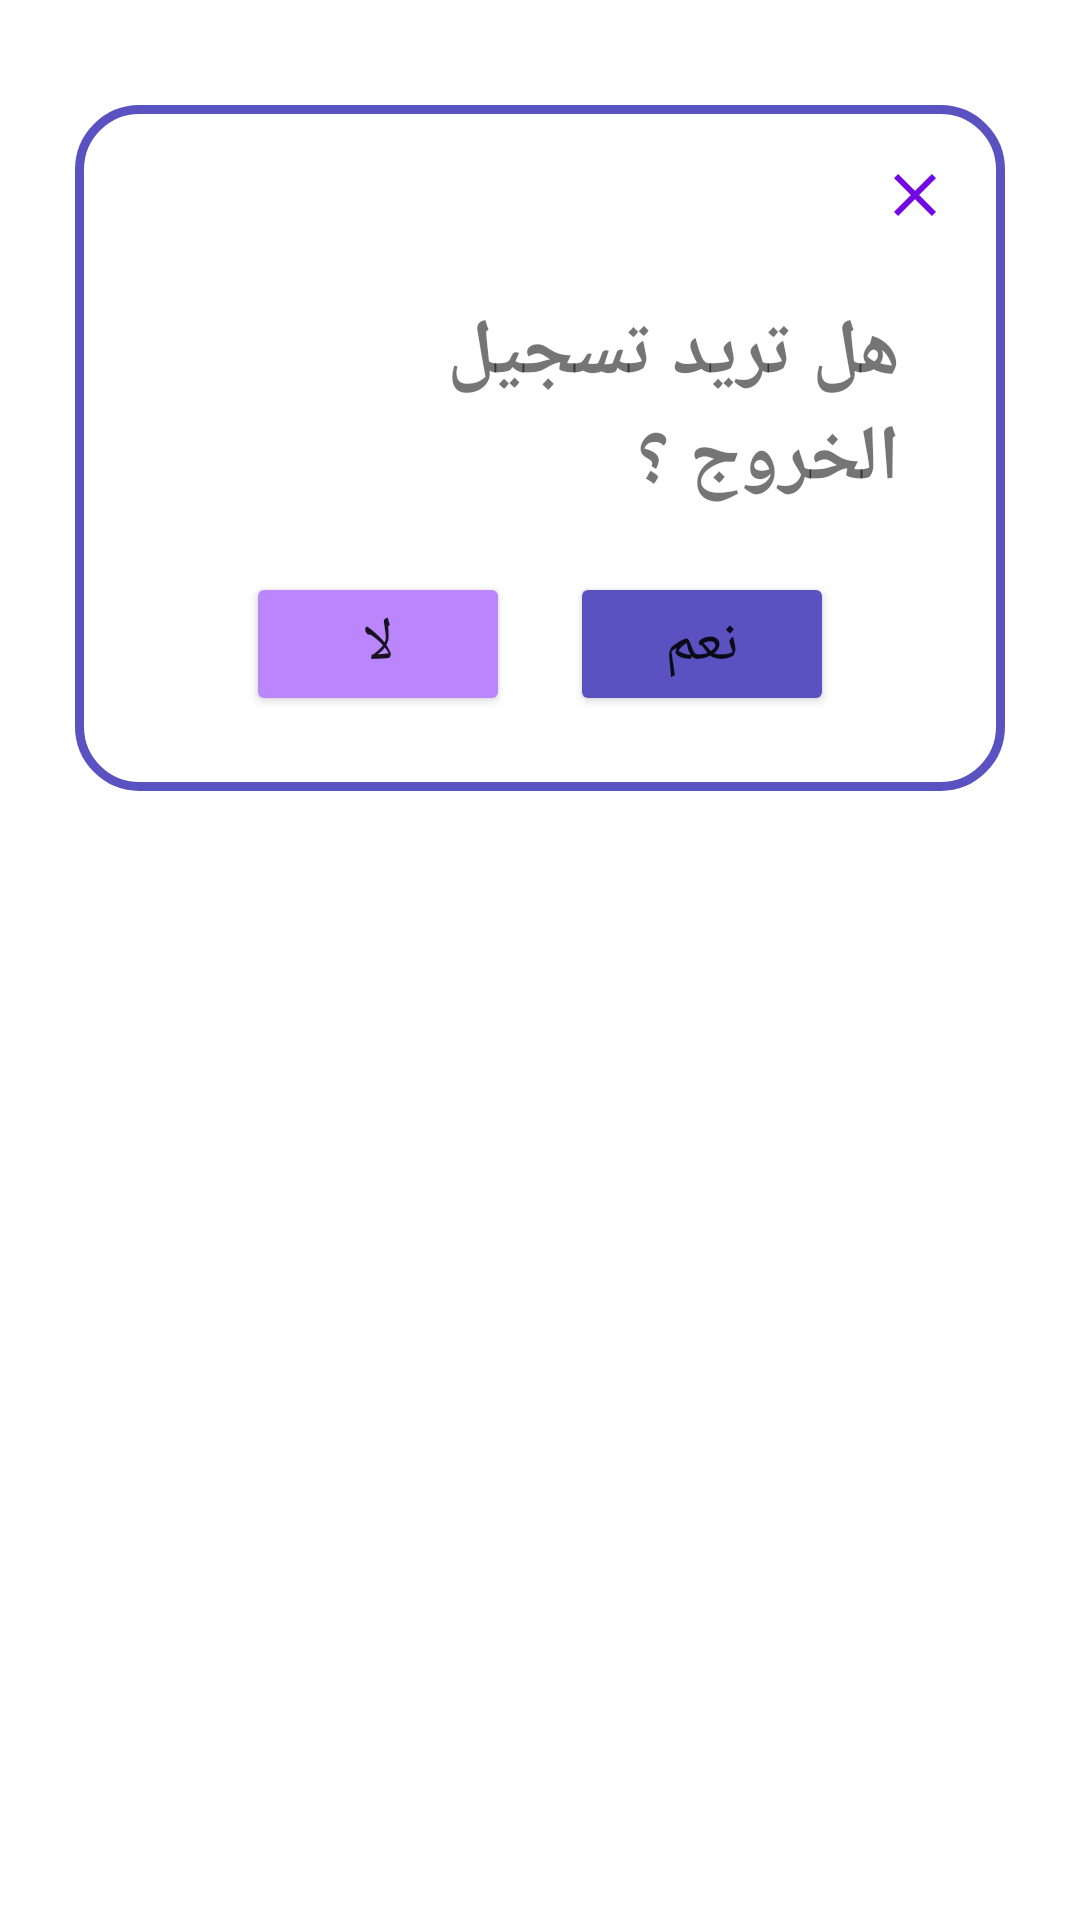

Named icons in this screenshot (1080x1920) and their bounding boxes, BBox(x1, y1, x2, y2):
close: BBox(894, 174, 936, 216)
